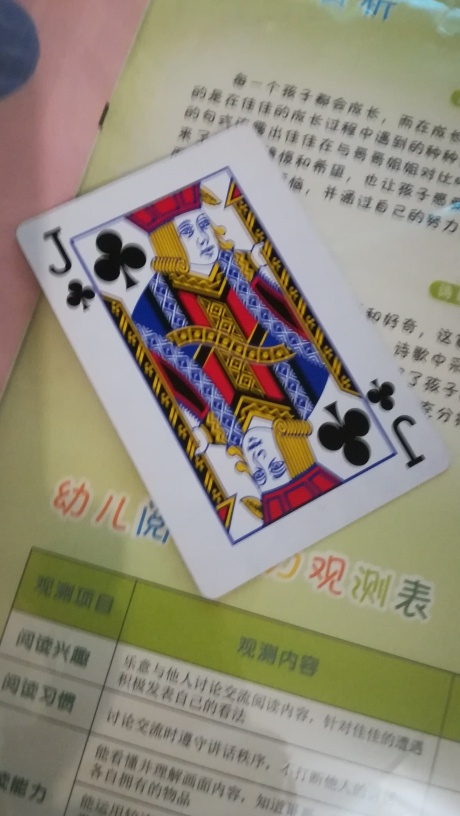mh j: (17, 125, 446, 603)
